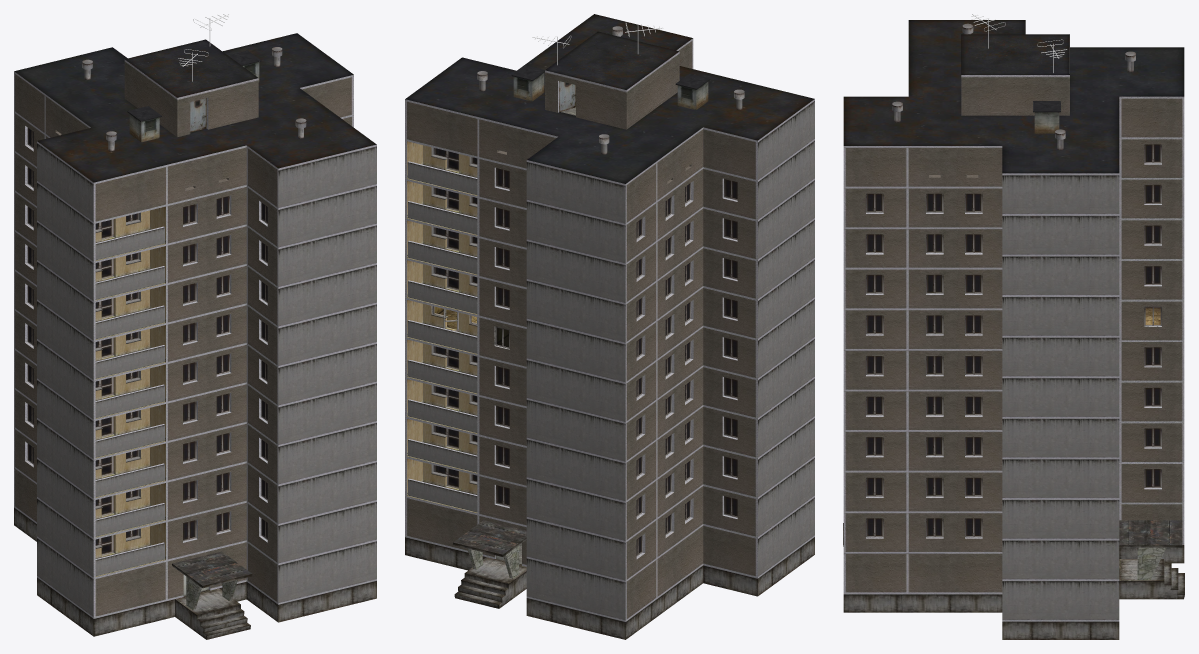
The model's file is panel_house.glb.
3 views of the same model, side by side, from view 1: azimuth 30°, elevation 25°; view 2: azimuth 150°, elevation 25°; view 3: azimuth 270°, elevation 25° (orthographic). The views are drawn at different scales.
Visible parts, largest first — view 1: Object_3, Object_2, Object_4; view 2: Object_3, Object_2, Object_4; view 3: Object_3, Object_2.
Boxes of the visible parts, <box> form: Object_3: <box>14,14,376,639</box>; Object_2: <box>14,18,376,639</box>; Object_4: <box>95,167,165,221</box>; Object_3: <box>405,23,814,639</box>; Object_2: <box>405,14,814,639</box>; Object_4: <box>407,101,575,347</box>; Object_3: <box>843,14,1182,619</box>; Object_2: <box>843,19,1184,639</box>.
Bounding box in the file's own units: 104 × 170 × 97.94.
Materials: 2 (2 with a texture image).
